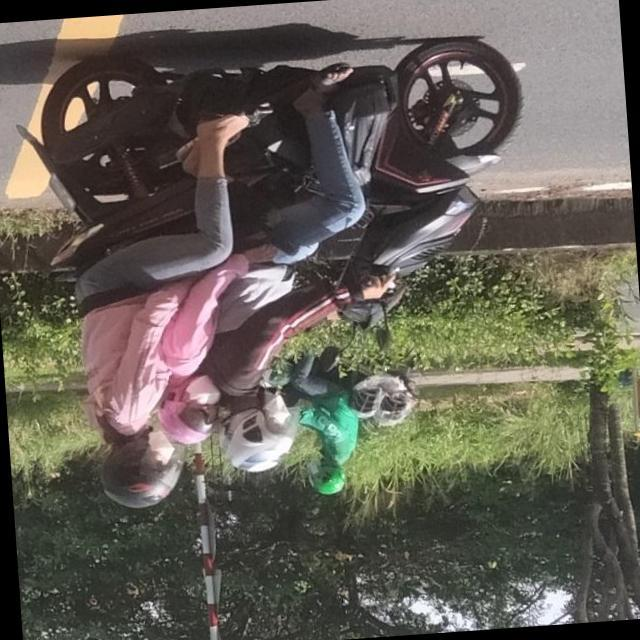WITH_HELMET: (94, 426, 185, 513), (218, 388, 304, 474), (308, 459, 346, 495)
